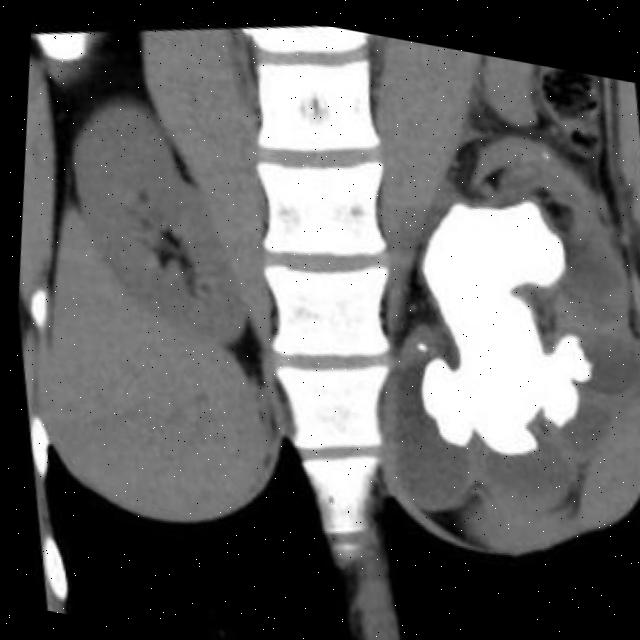Tas_Var: (364, 149, 635, 493), (402, 325, 428, 353), (534, 136, 551, 156)
